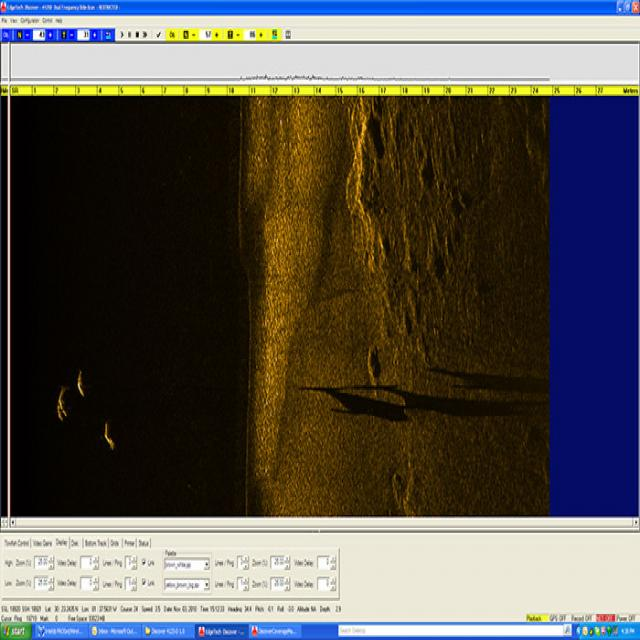fish: (53, 387, 69, 424), (99, 421, 118, 450), (71, 366, 85, 400)
